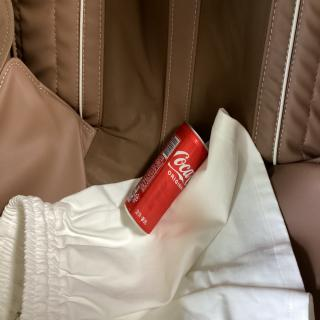cocacola: (116, 109, 215, 242)
